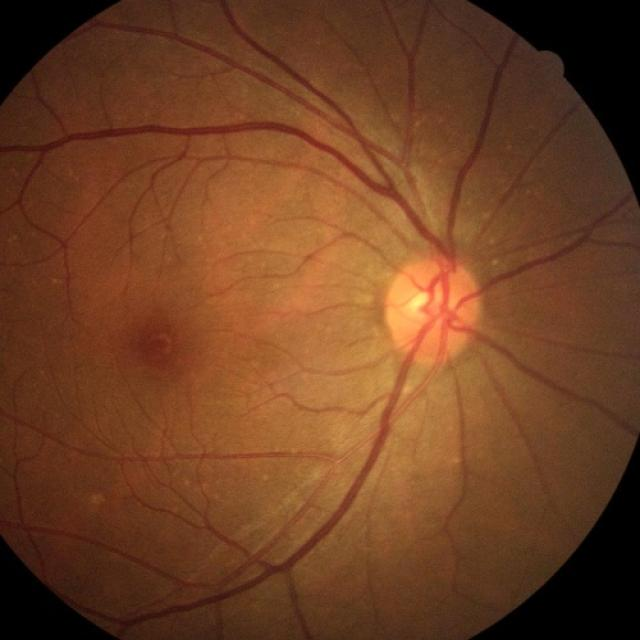OC: (410, 292, 442, 320)
OD: (385, 255, 483, 360)
